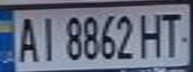2: (115, 11, 139, 61)
6: (100, 11, 121, 61)
8: (60, 12, 84, 62), (81, 12, 103, 61)
A: (12, 12, 42, 63)
H: (136, 9, 166, 60)
I: (33, 12, 60, 63)
T: (154, 9, 187, 58)
